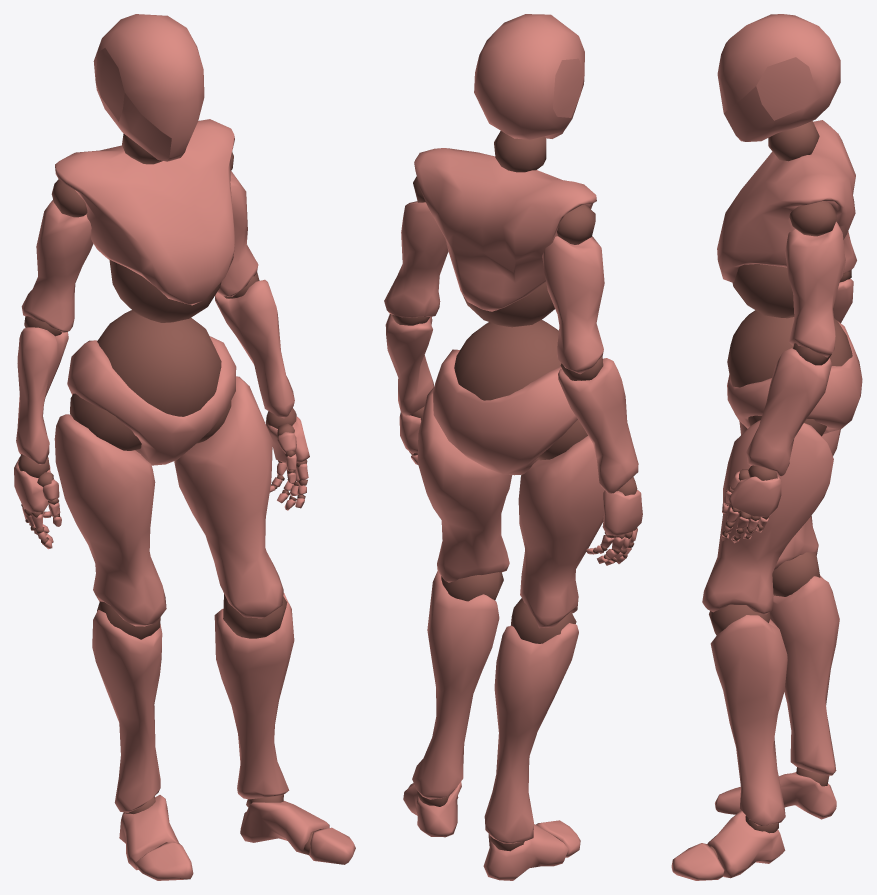
Rendered from reference_human.fbx.
3 views of the same model, side by side, from view 1: azimuth 30°, elevation 25°; view 2: azimuth 150°, elevation 25°; view 3: azimuth 270°, elevation 25° (orthographic). The views are drawn at different scales.
Visible parts, largest first — view 1: reference_human; view 2: reference_human; view 3: reference_human.
Boxes of the visible parts, left/top/right/bottom form: reference_human: left=14, top=14, right=355, bottom=880; reference_human: left=384, top=14, right=642, bottom=880; reference_human: left=671, top=14, right=862, bottom=880.
Bounding box in the file's own units: 62.17 × 179 × 39.06.
